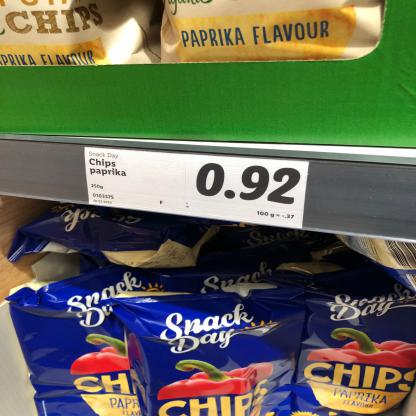prtg: (86, 148, 311, 230)
